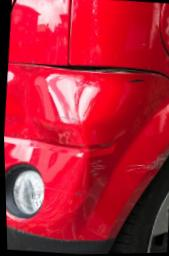Bumper: (22, 65, 169, 238)
